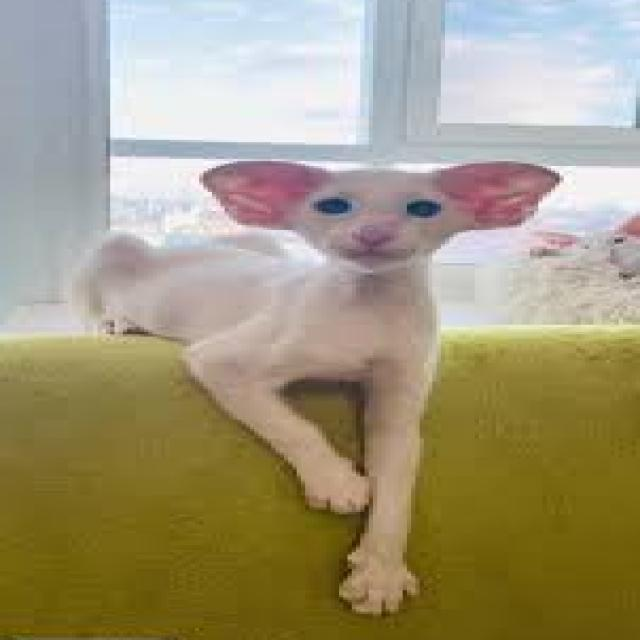Oriental: (54, 153, 575, 623)
